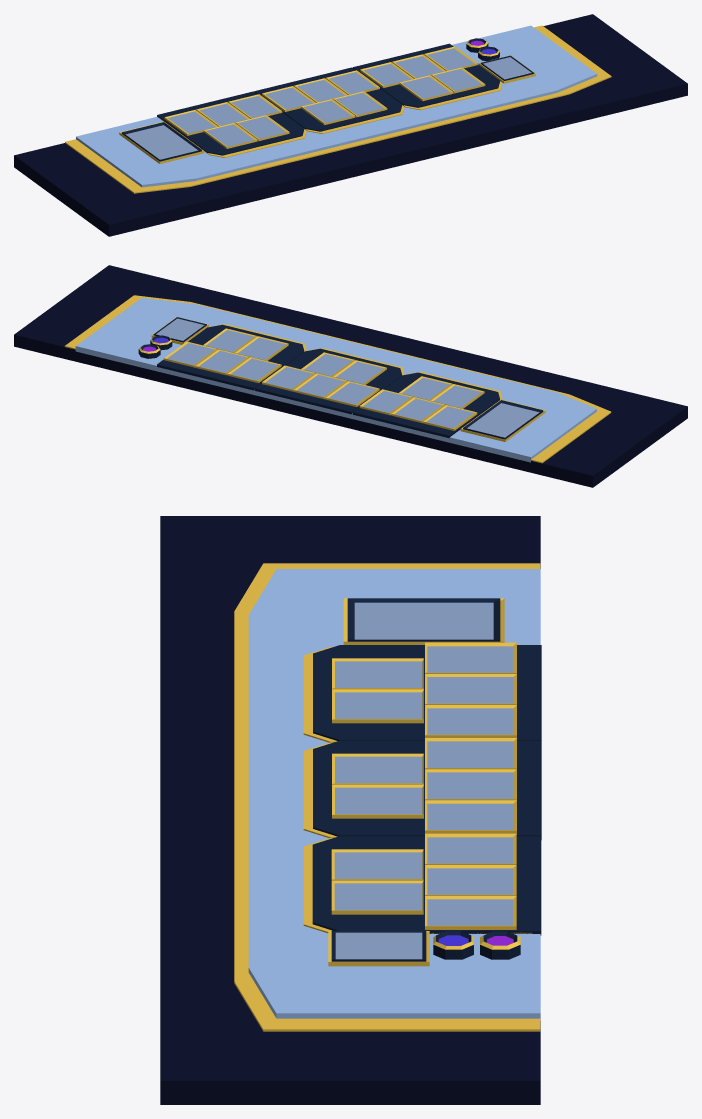
File: board.glb
3 renders of one model, top to bottom at view 1: azimuth 30°, elevation 25°; view 2: azimuth 150°, elevation 25°; view 3: azimuth 270°, elevation 25°, orthographic. The views are drawn at different scales.
Visible parts, largest first — view 1: base, Cube.014, Cube.021, Cube.013, Cube.020, Cube, Cube.007, Cube.009, Cube.016, Cube.004, Cube.005, Cube.008 (+15 smaller); view 2: base, Cube.014, Cube.021, Cube.013, Cube.020, Cube, Cube.007, Cube.010, Cube.003, Cube.017, Cube.018, Cube.001 (+12 smaller); view 3: base, Cube.014, Cube.021, Cube.020, Cube, Cube.013, Cube.007, Cube.015, Cube.005, Cube.008, Cube.002, Cube.018 (+17 smaller).
Boxes of the visible parts, x1,y1,x2,y2 form: base: [14, 14, 687, 236]; Cube.014: [76, 25, 597, 187]; Cube.021: [65, 25, 611, 193]; Cube.013: [157, 91, 304, 155]; Cube.020: [352, 43, 500, 107]; Cube: [254, 67, 402, 131]; Cube.007: [121, 122, 201, 161]; Cube.009: [203, 123, 257, 148]; Cube.016: [399, 75, 453, 101]; Cube.004: [301, 99, 355, 124]; Cube.005: [333, 91, 387, 117]; Cube.008: [235, 115, 289, 141]; base: [14, 265, 687, 487]; Cube.014: [75, 297, 596, 462]; Cube.021: [64, 295, 611, 463]; Cube.013: [352, 372, 499, 438]; Cube.020: [157, 324, 304, 390]; Cube: [254, 348, 402, 414]; Cube.007: [463, 400, 543, 439]; Cube.010: [423, 405, 477, 430]; Cube.003: [325, 381, 379, 406]; Cube.017: [227, 357, 281, 383]; Cube.018: [163, 341, 217, 367]; Cube.001: [293, 373, 347, 399]; base: [160, 516, 540, 1104]; Cube.014: [248, 569, 540, 1020]; Cube.021: [234, 563, 540, 1031]; Cube.020: [312, 836, 541, 935]; Cube: [313, 740, 541, 839]; Cube.013: [313, 645, 541, 740]; Cube.007: [347, 598, 500, 641]; Cube.015: [331, 880, 423, 914]; Cube.005: [332, 784, 423, 818]; Cube.008: [332, 689, 423, 723]; Cube.002: [425, 800, 516, 833]; Cube.018: [425, 896, 516, 929].
Bounding box in the file's own units: 6.01 × 0.2179 × 1.71.
